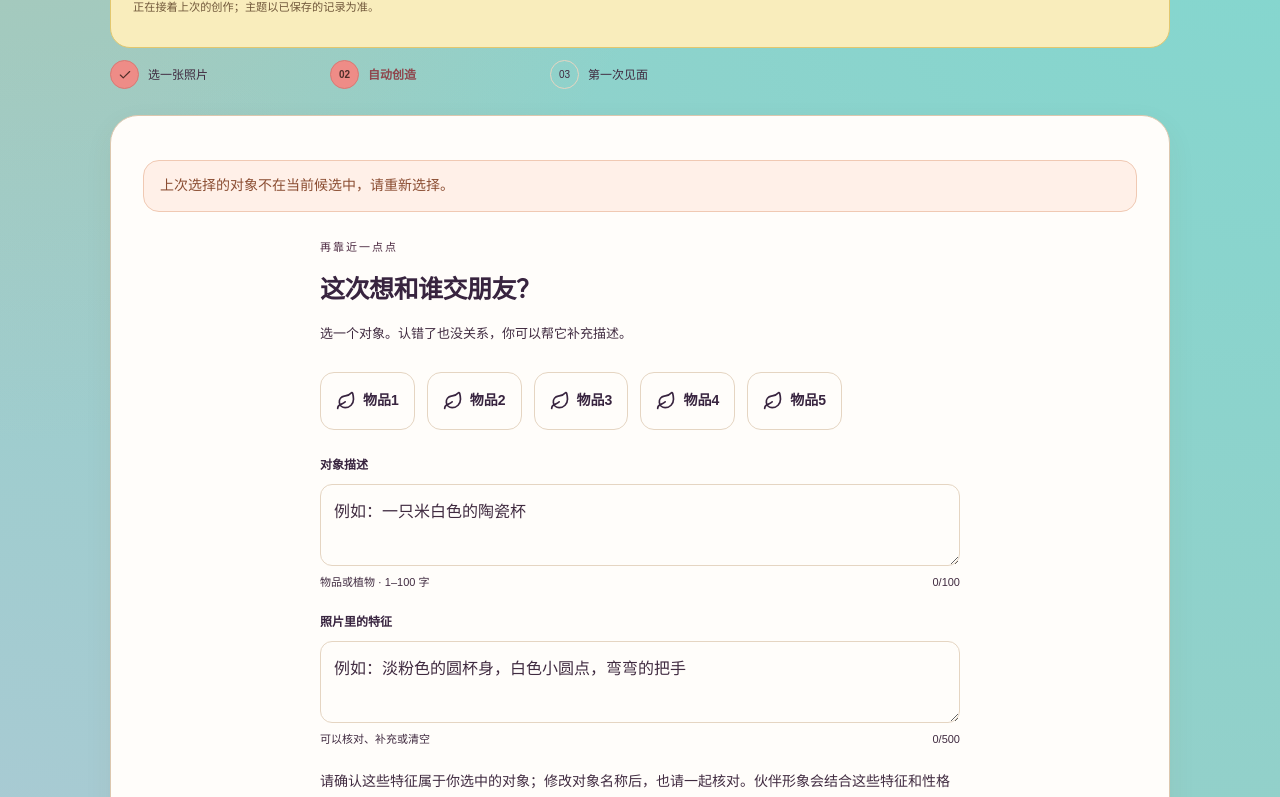
Scenario: requires a new selection for a hidden object without a usable result: null
(page scrolled)
Expected: the text "上次选择的对象不在当前候选中，请重新选择。" is shown, top-left (143, 160), bottom-right (1137, 212)
Expected: the text box labelled "对象描述" is empty, top-left (320, 484), bottom-right (960, 566)
Click the button "物品2" at (474, 401), box top-left (427, 372), bottom-right (522, 430)
(page scrolled)
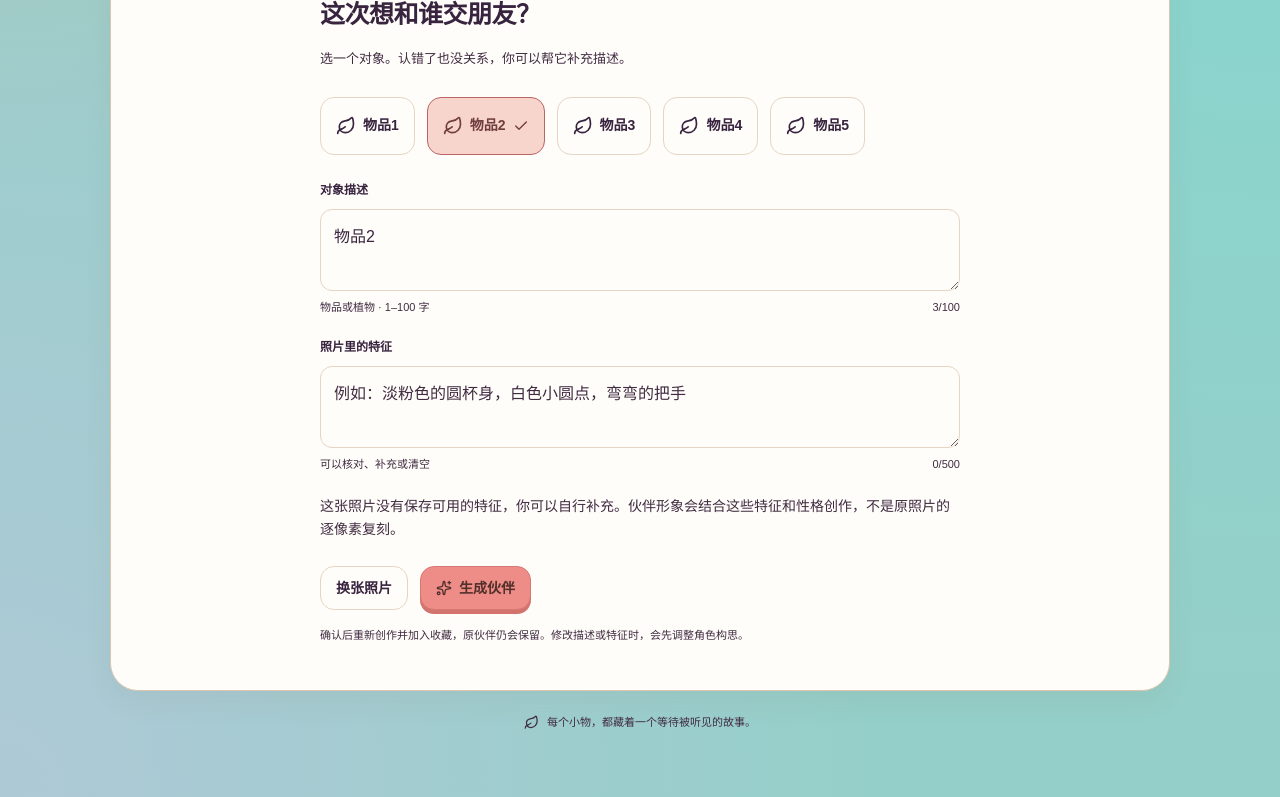
Result: the button "生成伙伴" is enabled at top-left (420, 566), bottom-right (531, 610)
